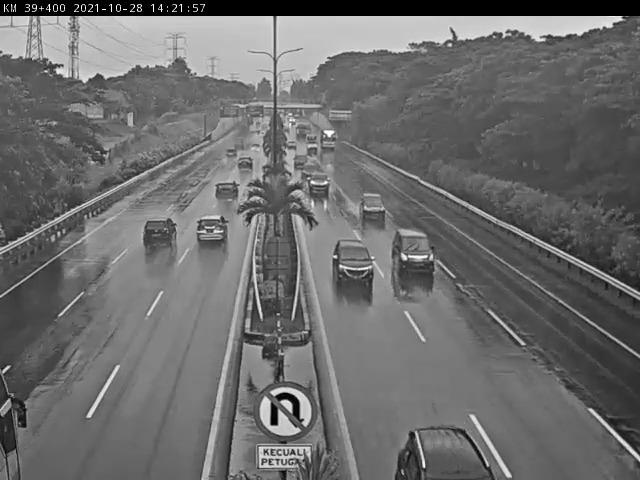car: (330, 238, 376, 285), (390, 229, 436, 275), (142, 216, 178, 250), (197, 215, 228, 246), (361, 191, 388, 217), (214, 179, 242, 202), (308, 173, 332, 196), (235, 154, 255, 172), (291, 151, 309, 168), (224, 145, 241, 160)
